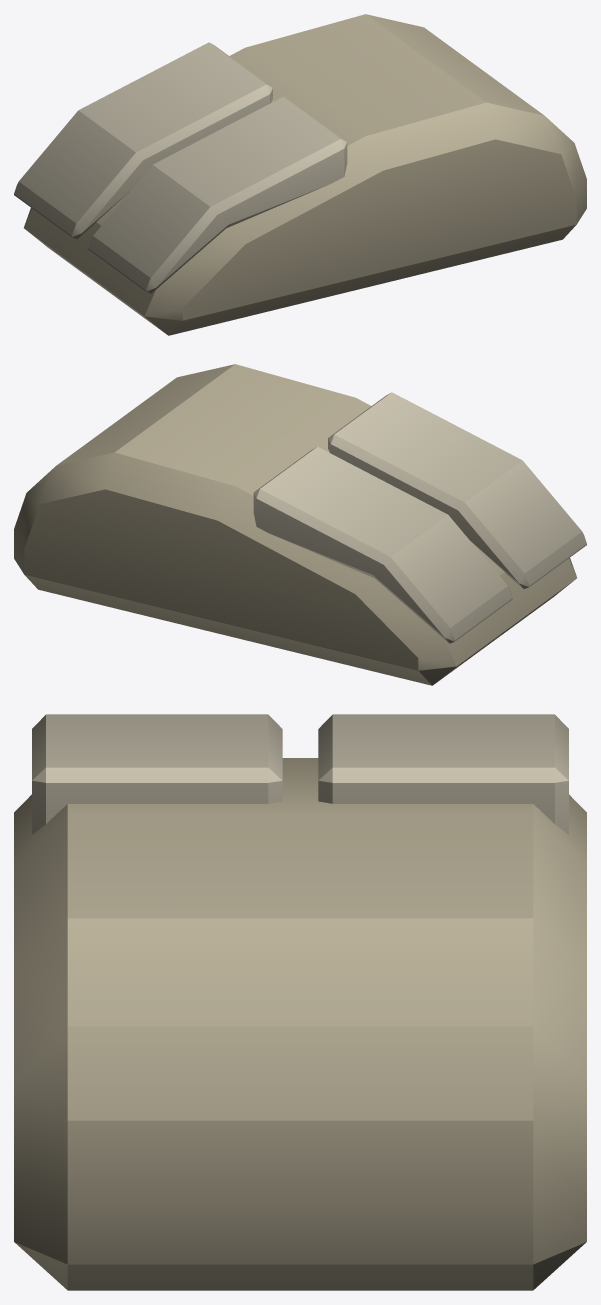
Rendered from Mouse.glb.
The picture shows the model from 3 angles, top to bottom: view 1: azimuth 30°, elevation 25°; view 2: azimuth 150°, elevation 25°; view 3: azimuth 270°, elevation 25°; orthographic projection. The views are drawn at different scales.
Parts seen in each view (by area): view 1: Mouse; view 2: Mouse; view 3: Mouse.
Boxes of the visible parts, x1,y1,x2,y2 form: Mouse: (14,14,586,335); Mouse: (14,364,586,685); Mouse: (14,714,586,1290).
Size of the model in its own units: 0.005 by 0.00171 by 0.00288.
1 material, 1 textured.
